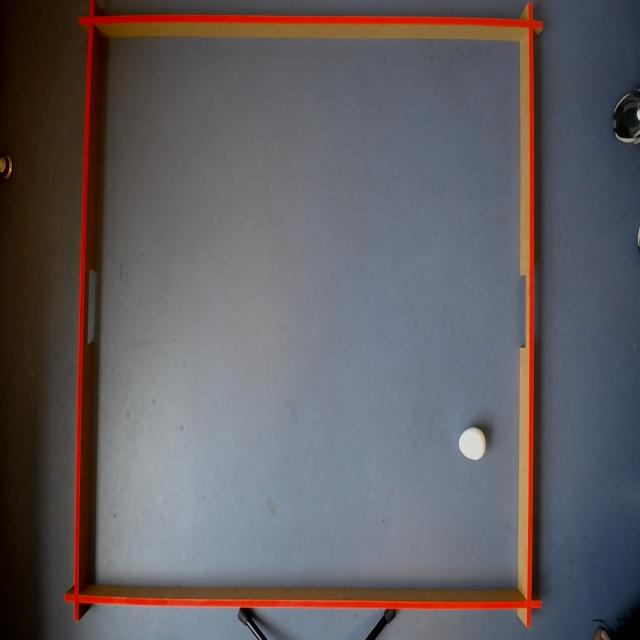egg: (458, 424, 487, 464)
